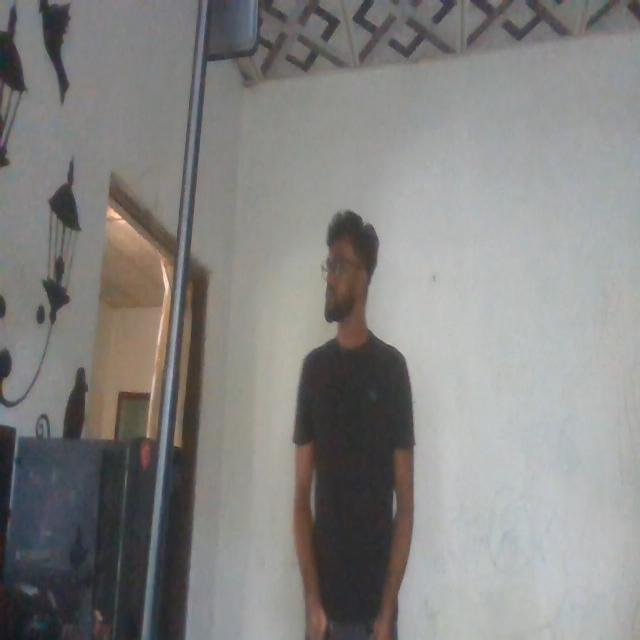Person: (283, 204, 439, 640)
